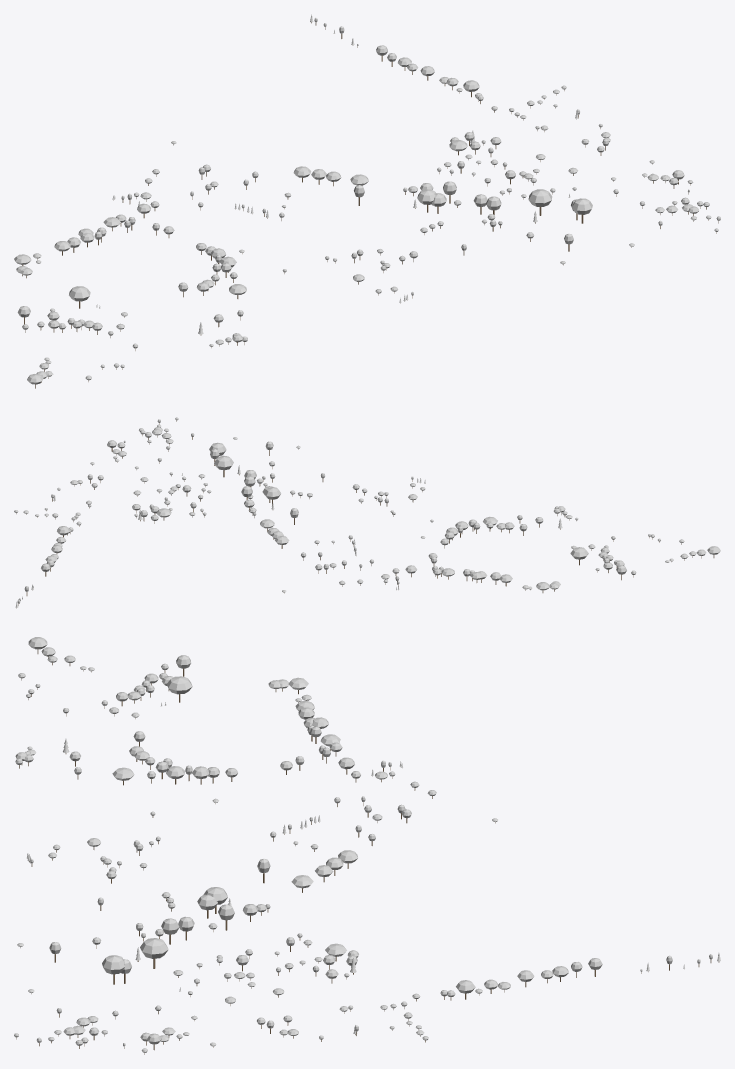
File: stromy.glb
3 renders of one model, top to bottom at view 1: azimuth 30°, elevation 25°; view 2: azimuth 150°, elevation 25°; view 3: azimuth 270°, elevation 25°, orthographic. The views are drawn at different scales.
Visible parts, largest first — view 1: Stromy_Listnate_01_02; view 2: Stromy_Listnate_01_02; view 3: Stromy_Listnate_01_02.
Part boxes in pixels (x1,y1,x2,y2): Stromy_Listnate_01_02: (14, 18, 720, 388); Stromy_Listnate_01_02: (14, 417, 720, 605); Stromy_Listnate_01_02: (14, 637, 712, 1054).
Bounding box in the file's own units: 715 × 32.09 × 529.
